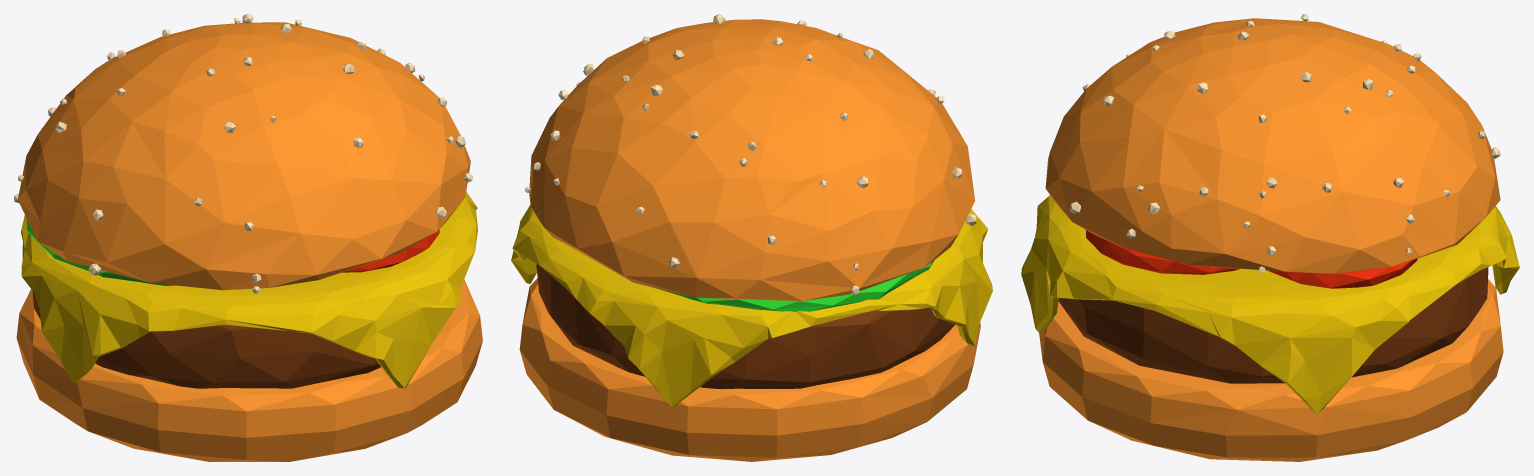
File: uploads_files_3525923_Burger.fbx
3 renders of one model, left to right at view 1: azimuth 30°, elevation 25°; view 2: azimuth 150°, elevation 25°; view 3: azimuth 270°, elevation 25°, orthographic.
Visible parts, largest first — view 1: Burger; view 2: Burger; view 3: Burger.
Boxes of the visible parts, x1=… form: Burger: x1=14, y1=14, x2=482, y2=461; Burger: x1=511, y1=14, x2=992, y2=461; Burger: x1=1021, y1=14, x2=1519, y2=461.
Size of the model in its own units: 209 by 156 by 210.
